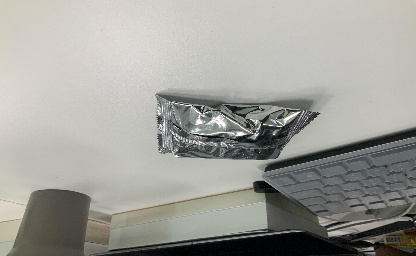br: (153, 88, 322, 163)
